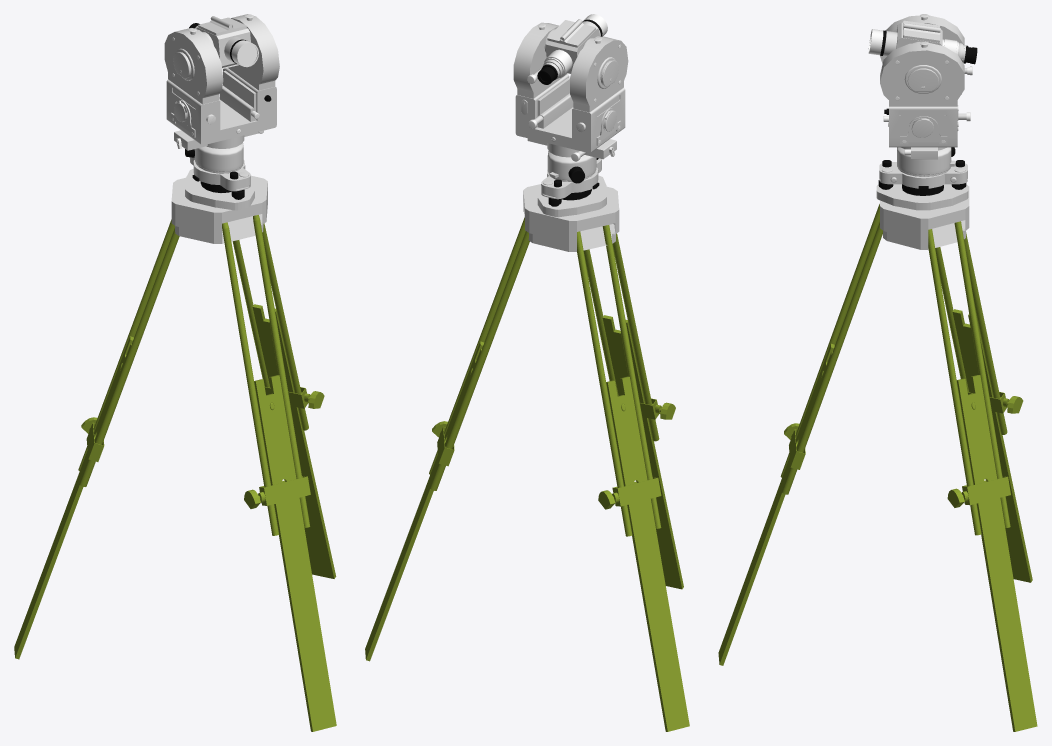
File: KANCEYI.FBX
3 renders of one model, left to right at view 1: azimuth 30°, elevation 25°; view 2: azimuth 150°, elevation 25°; view 3: azimuth 270°, elevation 25°, orthographic.
Parts seen in each view (by area): view 1: Cylinder050, Box001, Cylinder004, Cylinder049, Cylinder001, Box003, Cylinder009, Box019, Box002, Cylinder043, Cylinder002, 对象020 (+1 smaller); view 2: Cylinder049, Box001, Cylinder050, Cylinder004, Cylinder001, Box003, Box019, Cylinder009, Box002, Box017, Cylinder002, Cylinder043; view 3: Cylinder004, Box001, Cylinder050, Cylinder049, Cylinder001, Box003, Box002, Cylinder009, Cylinder040, Box017, Cylinder043, Cylinder035.
Boxes of the visible parts, x1,y1,x2,y2 form: Cylinder050: (222, 215, 336, 731); Box001: (164, 14, 279, 145); Cylinder004: (232, 223, 336, 578); Cylinder049: (14, 219, 179, 659); Cylinder001: (171, 175, 267, 243); Box003: (185, 169, 254, 210); Cylinder009: (194, 143, 243, 173); Box019: (219, 70, 256, 121); Box002: (190, 157, 250, 191); Cylinder043: (196, 27, 250, 67); Cylinder002: (174, 130, 258, 150); 对象020: (231, 40, 258, 67); Cylinder049: (577, 225, 689, 731); Box001: (513, 22, 628, 153); Cylinder050: (583, 233, 683, 589); Cylinder004: (365, 217, 529, 661); Cylinder001: (523, 184, 619, 251); Box003: (537, 175, 606, 217); Box019: (537, 78, 573, 128); Cylinder009: (547, 151, 596, 181); Box002: (541, 158, 601, 199); Box017: (547, 19, 595, 47); Cylinder002: (527, 138, 616, 159); Cylinder043: (545, 21, 600, 73); Cylinder004: (928, 221, 1037, 731); Box001: (880, 14, 964, 147); Cylinder050: (718, 204, 882, 665); Cylinder049: (935, 232, 1032, 582); Cylinder001: (880, 186, 969, 249); Box003: (876, 184, 968, 210); Box002: (879, 162, 967, 188); Cylinder009: (897, 147, 951, 176); Cylinder040: (904, 65, 941, 93); Box017: (903, 20, 940, 42); Cylinder043: (883, 22, 942, 56); Cylinder035: (900, 116, 947, 144).
Size of the model in its own units: 401928 by 756547 by 343709.
